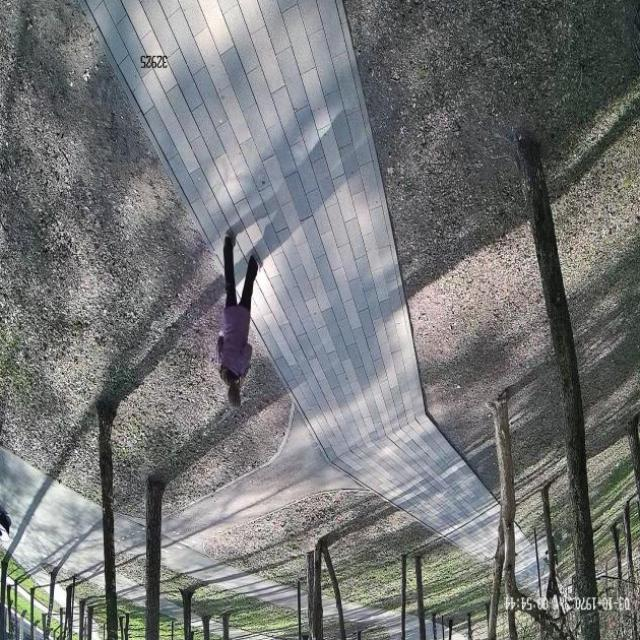person: (216, 232, 262, 411)
